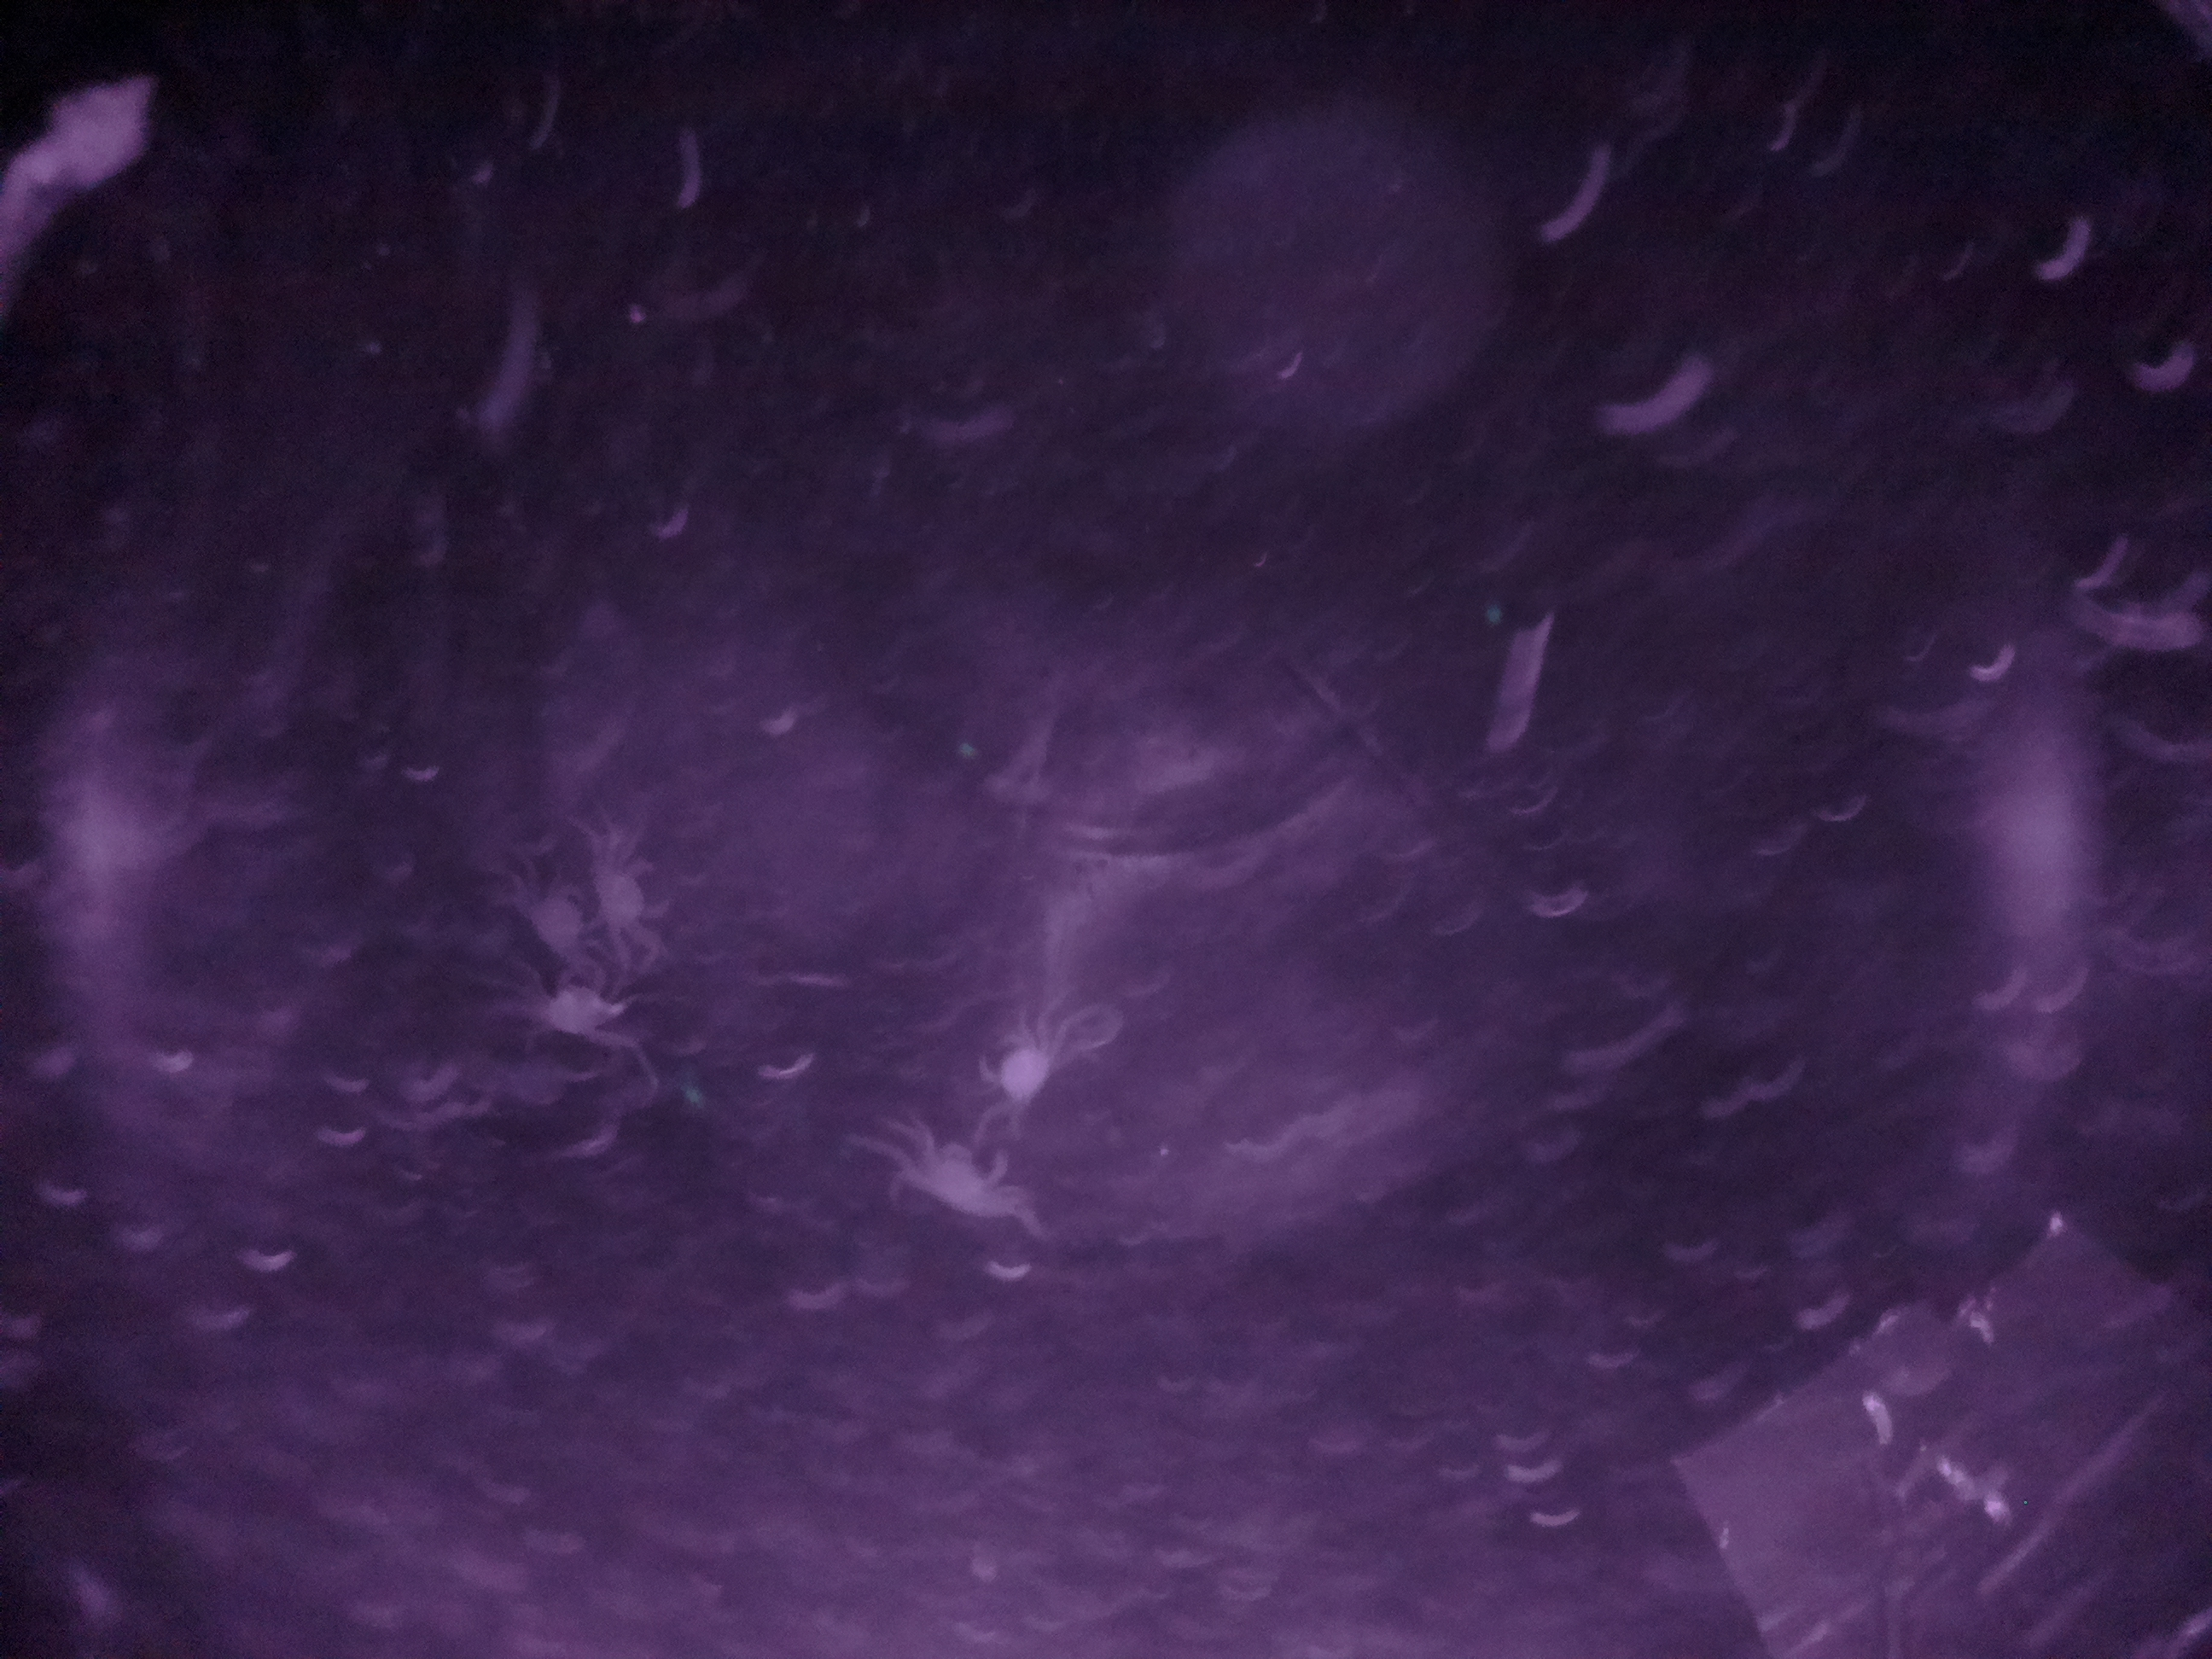Crab: (897, 1103, 1022, 1229), (965, 1009, 1085, 1131), (578, 840, 681, 958)
